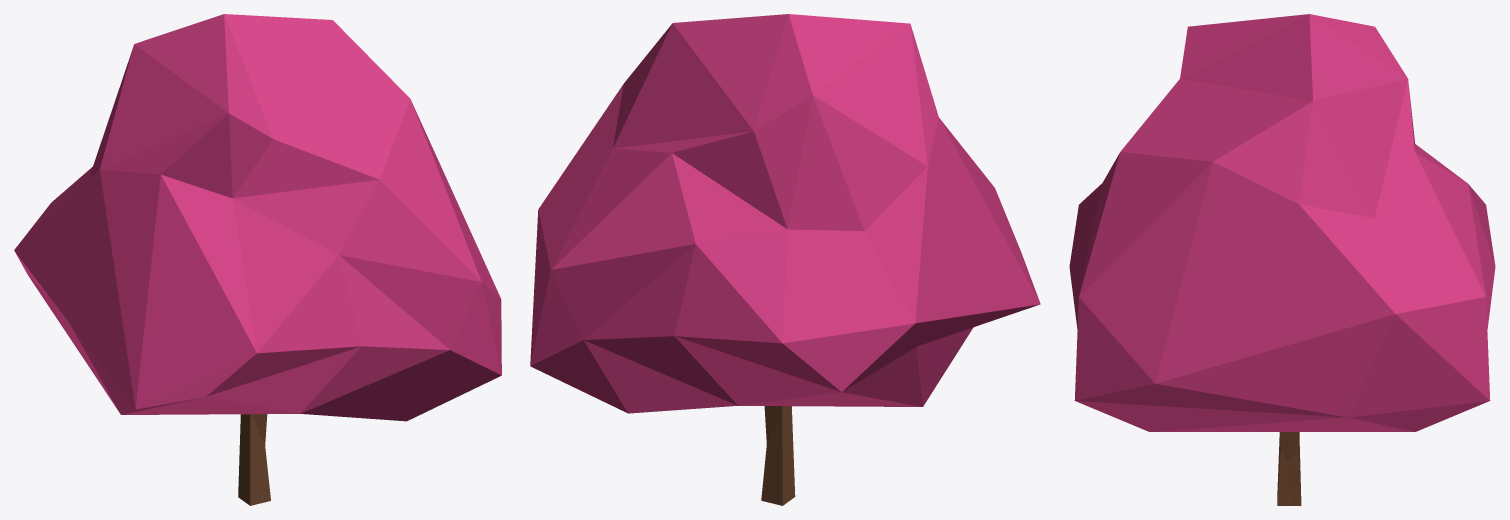
Rendered from Tree_19_Pink.fbx.
3 views of the same model, side by side, from view 1: azimuth 30°, elevation 25°; view 2: azimuth 150°, elevation 25°; view 3: azimuth 270°, elevation 25° (orthographic). The views are drawn at different scales.
Visible parts, largest first — view 1: Tree_19_Pink_Part_1, Tree_19_Pink_Part_2; view 2: Tree_19_Pink_Part_1, Tree_19_Pink_Part_2; view 3: Tree_19_Pink_Part_1, Tree_19_Pink_Part_2.
Boxes of the visible parts, x1,y1,x2,y2 form: Tree_19_Pink_Part_1: [14, 14, 501, 421]; Tree_19_Pink_Part_2: [238, 414, 270, 505]; Tree_19_Pink_Part_1: [530, 14, 1040, 413]; Tree_19_Pink_Part_2: [761, 406, 795, 505]; Tree_19_Pink_Part_1: [1069, 14, 1495, 431]; Tree_19_Pink_Part_2: [1277, 432, 1301, 505].
Size of the model in its own units: 641 by 800 by 647.
